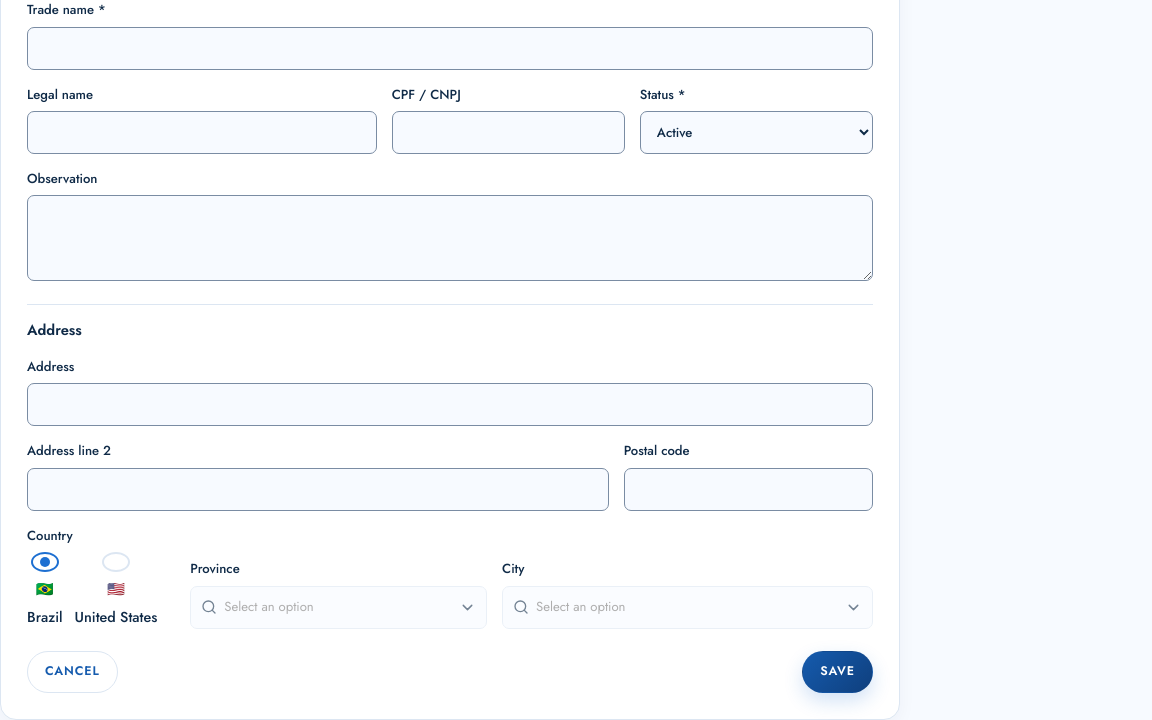
Test: CustomerFormPage › requires the trade name and does not post without it
(page scrolled)
Click the button "Save" at point(838, 672), box [802,651,873,693]
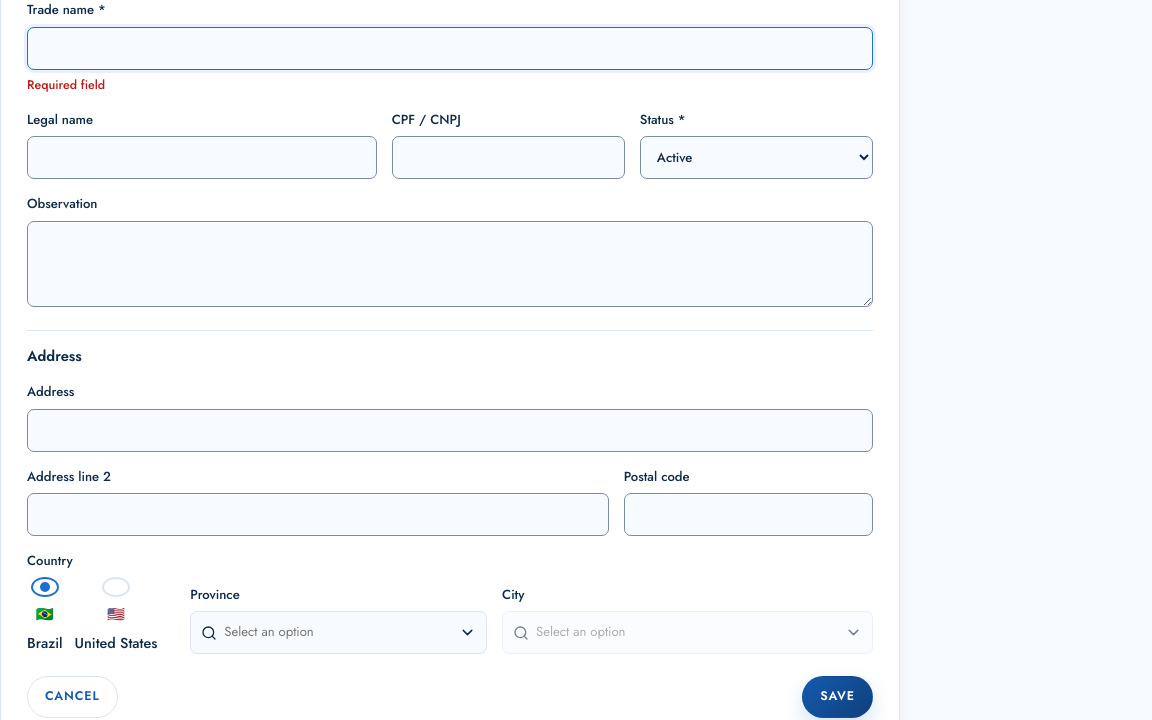
expect the text "Required field" is shown: met, box [27,76,105,94]
